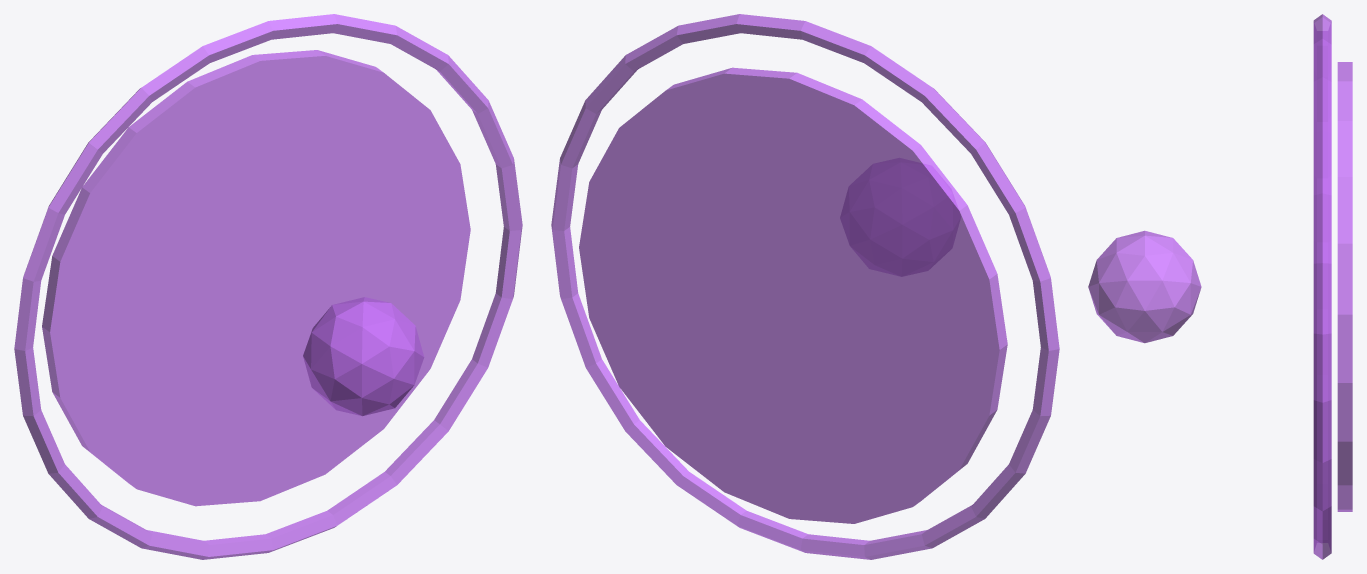
Rendered from summon_circle_nature.glb.
The picture shows the model from 3 angles, left to right: view 1: azimuth 30°, elevation 25°; view 2: azimuth 150°, elevation 25°; view 3: azimuth 270°, elevation 25°; orthographic projection. The views are drawn at different scales.
Parts seen in each view (by area): view 1: summon_disc, summon_ring, summon_core; view 2: summon_disc, summon_ring; view 3: summon_ring, summon_core, summon_disc.
Boxes of the visible parts, left/top/right/bottom form: summon_disc: left=42, top=50, right=470, bottom=506; summon_ring: left=14, top=14, right=522, bottom=559; summon_core: left=303, top=297, right=424, bottom=416; summon_disc: left=579, top=67, right=1007, bottom=523; summon_ring: left=551, top=14, right=1059, bottom=559; summon_ring: left=1313, top=14, right=1331, bottom=559; summon_core: left=1088, top=230, right=1201, bottom=343; summon_disc: left=1337, top=62, right=1352, bottom=511.
Bounding box in the file's own units: 1.45 × 1.45 × 0.7.
